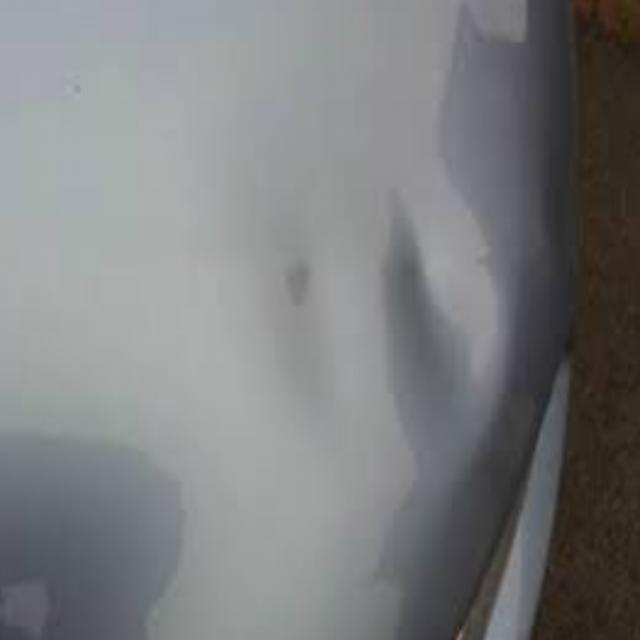dents: (373, 180, 498, 470)
